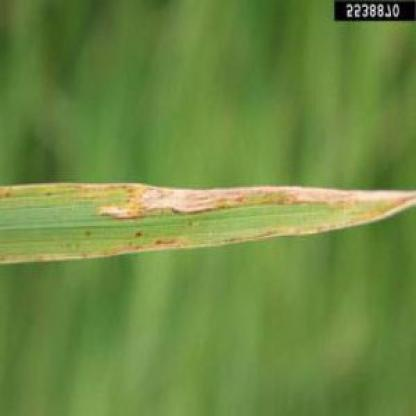Blight: (116, 175, 414, 218)
